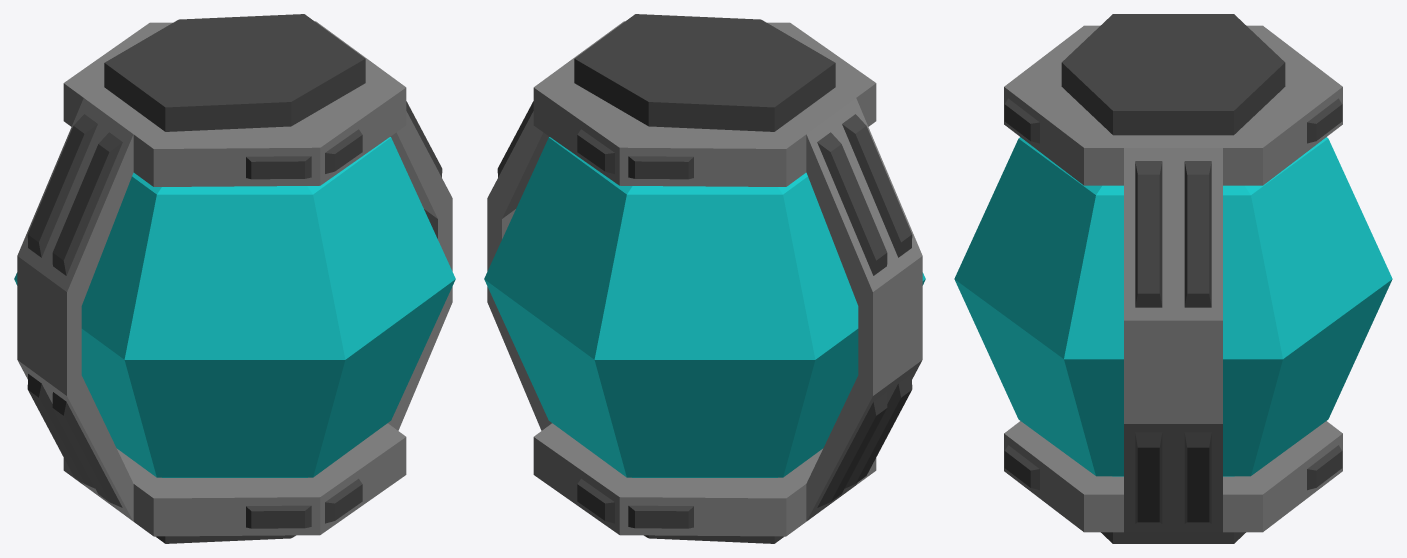
Rendered from Item_PerkFragment.fbx.
3 renders of one model, left to right at view 1: azimuth 30°, elevation 25°; view 2: azimuth 150°, elevation 25°; view 3: azimuth 270°, elevation 25°, orthographic.
Visible parts, largest first — view 1: PerkCore, PerkContainer; view 2: PerkCore, PerkContainer; view 3: PerkContainer, PerkCore.
Part boxes in pixels (x1=…): PerkCore: x1=14, y1=137, x2=455, y2=477; PerkContainer: x1=17, y1=14, x2=452, y2=543; PerkCore: x1=484, y1=137, x2=925, y2=477; PerkContainer: x1=487, y1=14, x2=922, y2=543; PerkContainer: x1=1004, y1=14, x2=1342, y2=543; PerkCore: x1=954, y1=137, x2=1392, y2=476.
Bounding box in the file's own units: 202 × 218 × 200.
